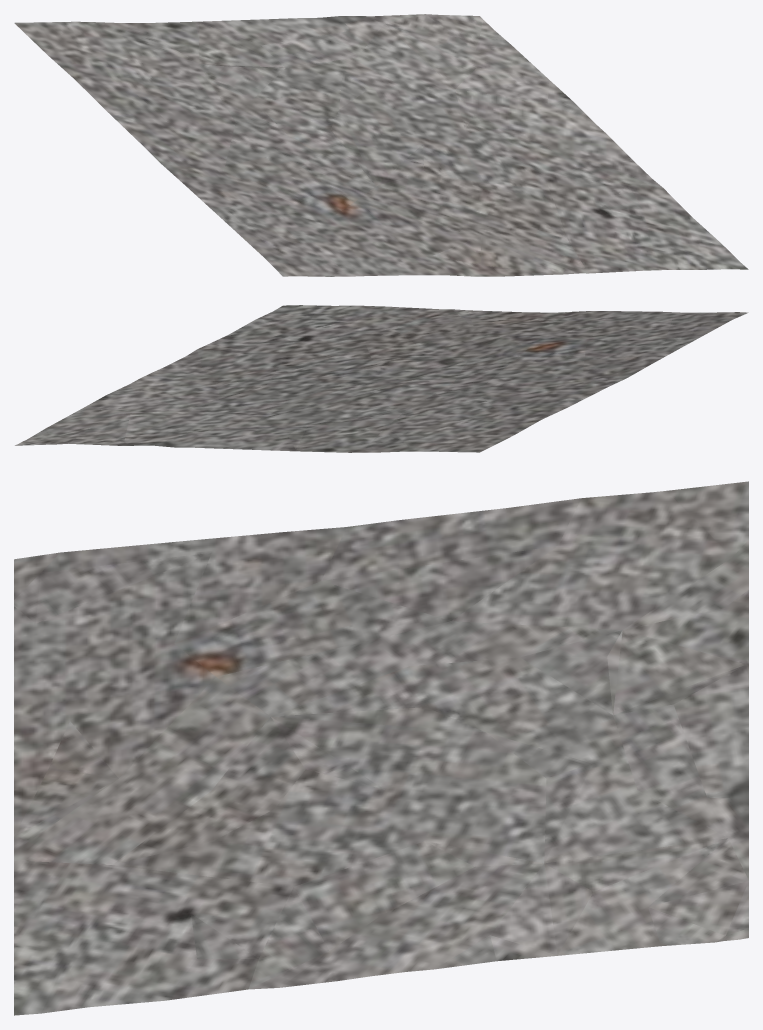
3 views of the same model, one above another, from view 1: azimuth 30°, elevation 25°; view 2: azimuth 150°, elevation 25°; view 3: azimuth 270°, elevation 25° (orthographic). The views are drawn at different scales.
Bounding box in the file's own units: 0.8374 × 0.281 × 0.8374.
Materials: 3 (3 with a texture image).
